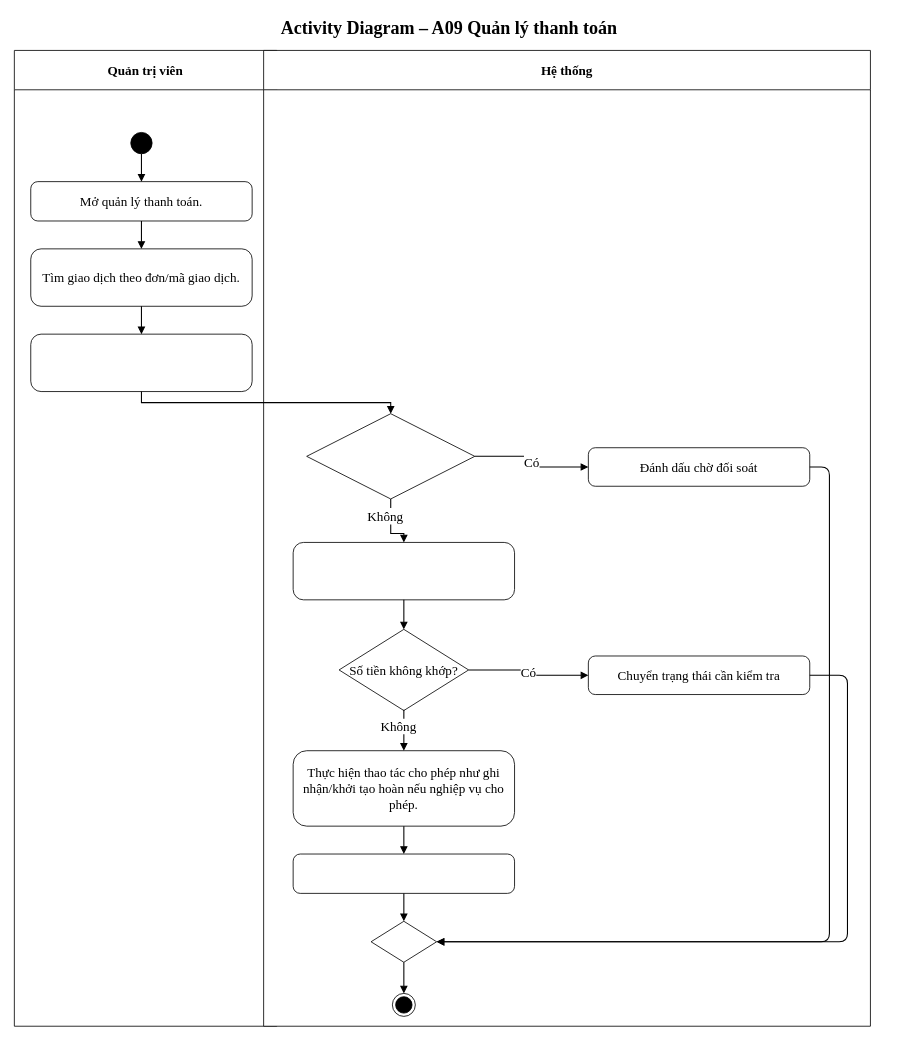
Some shapes in this 898 by 1041 pixel diagram are drawn without their labels. Here are the shapes that lost their labels. From the top down, the centre of each, then its label:
At (x=141, y=362): "Xem trạng thái từ cổng thanh toán.".
At (x=390, y=456): "Không kết nối được cổng thanh toán?".
At (x=403, y=571): "Đối soát số tiền và phương thức.".
At (x=403, y=873): "Lưu kết quả và nhật ký.".
